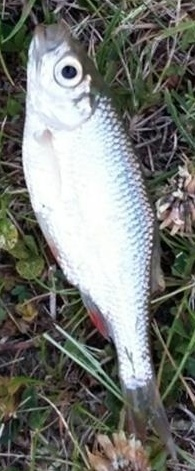Scardinius erythrophthalmus: (20, 20, 175, 451)
